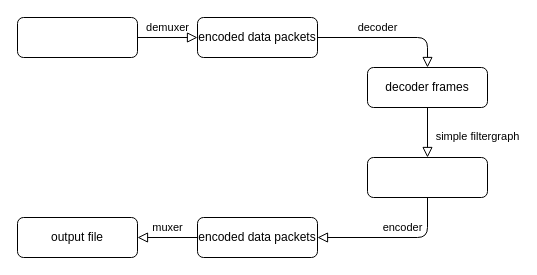
Some shapes in this 537 by 275 pixel diagram are drawn without their labels. The box of each missing label's shape, as (x1, y1, x2, y2) in pixels:
filtered frames: (366, 156, 488, 198)
input file: (16, 16, 138, 58)
